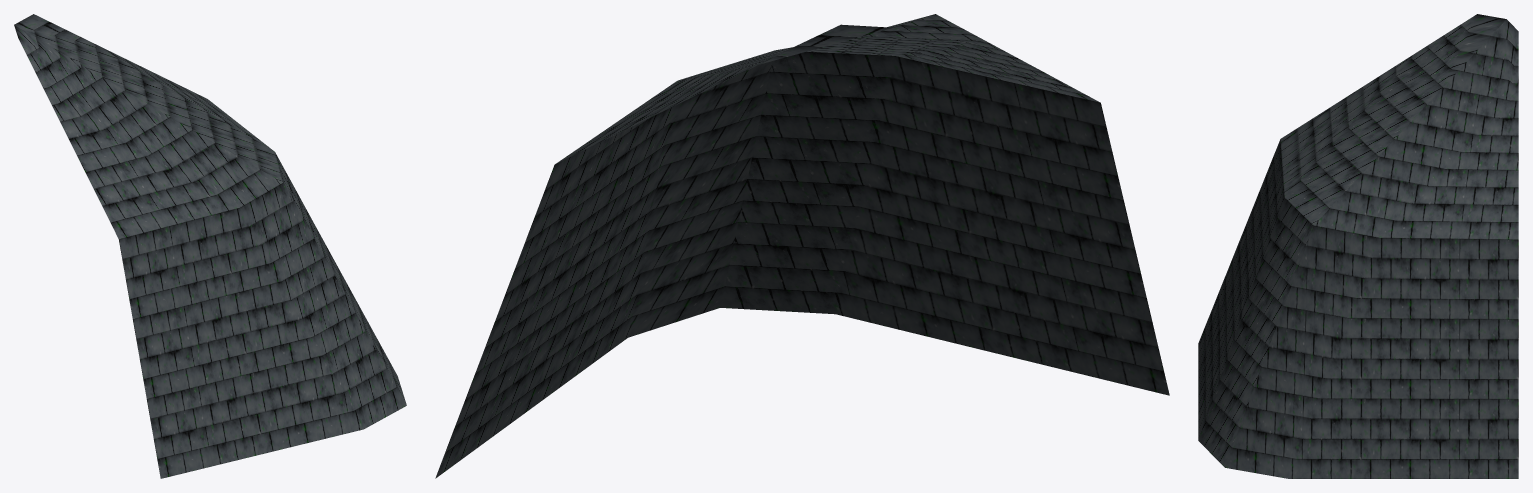
Rendered from RoofAngle.fbx.
3 views of the same model, side by side, from view 1: azimuth 30°, elevation 25°; view 2: azimuth 150°, elevation 25°; view 3: azimuth 270°, elevation 25° (orthographic). The views are drawn at different scales.
Parts seen in each view (by area): view 1: RoofAngle; view 2: RoofAngle; view 3: RoofAngle.
Part boxes in pixels (box(x1,y1,x2,y2)): RoofAngle: box(14, 14, 406, 478); RoofAngle: box(435, 14, 1169, 478); RoofAngle: box(1198, 14, 1518, 478).
Bounding box in the file's own units: 200 × 227 × 200.
Materials: 1 (1 with a texture image).
